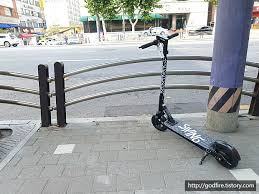kick_board: (141, 34, 239, 167)
kick_handler: (140, 33, 178, 51)
kick_neck: (160, 56, 168, 104)
kick_wheel: (214, 140, 238, 169), (152, 116, 166, 132)
